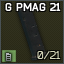Glock 9x19 Magpul PMAG GL9 21-round magazine: (0, 0, 64, 64)
